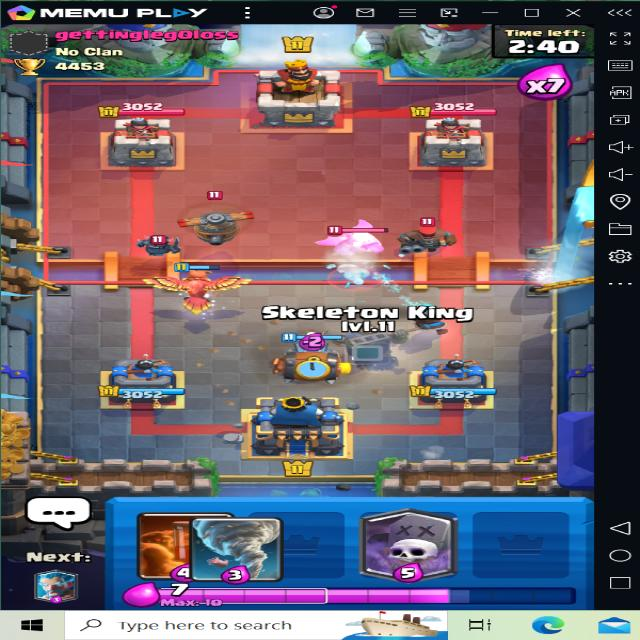Babydragon: (318, 215, 386, 260)
Flyingmachine: (175, 199, 264, 244)
Minipekka: (130, 233, 193, 257)
hunter: (402, 213, 462, 254)
